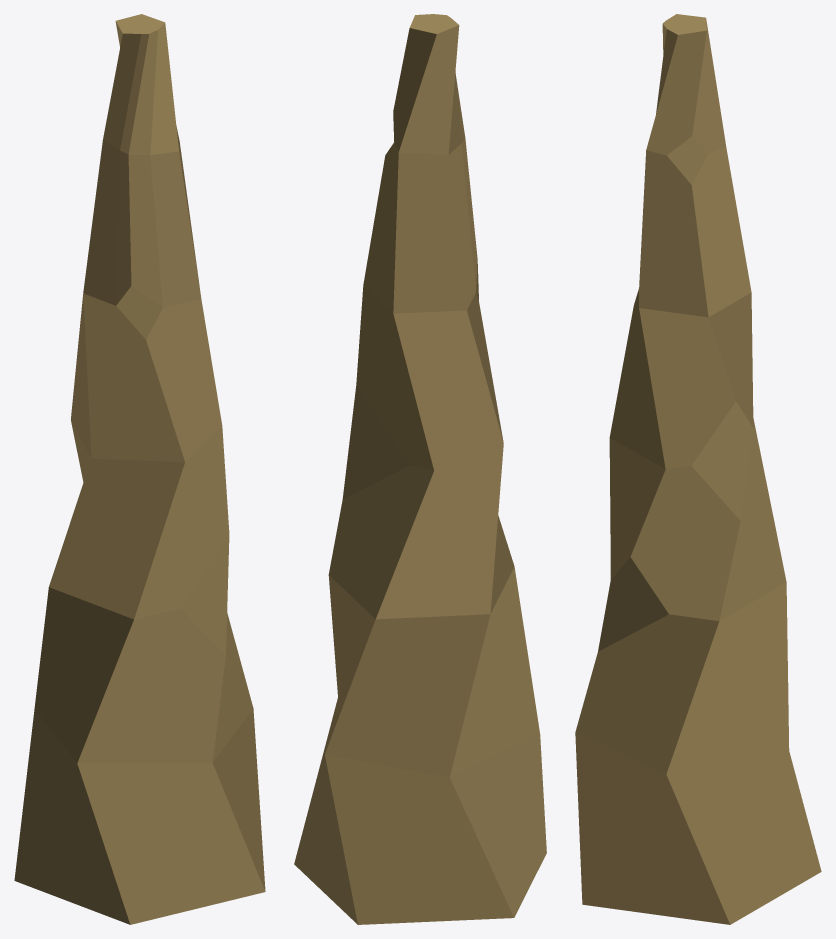
Rendered from WeatheredStone4.fbx.
3 views of the same model, side by side, from view 1: azimuth 30°, elevation 25°; view 2: azimuth 150°, elevation 25°; view 3: azimuth 270°, elevation 25° (orthographic).
Visible parts, largest first — view 1: Circle.016; view 2: Circle.016; view 3: Circle.016.
Part boxes in pixels (box(x1,y1,x2,y2)): Circle.016: box(14, 14, 265, 924); Circle.016: box(294, 14, 546, 924); Circle.016: box(575, 14, 821, 924).
Bounding box in the file's own units: 242 × 897 × 237.
